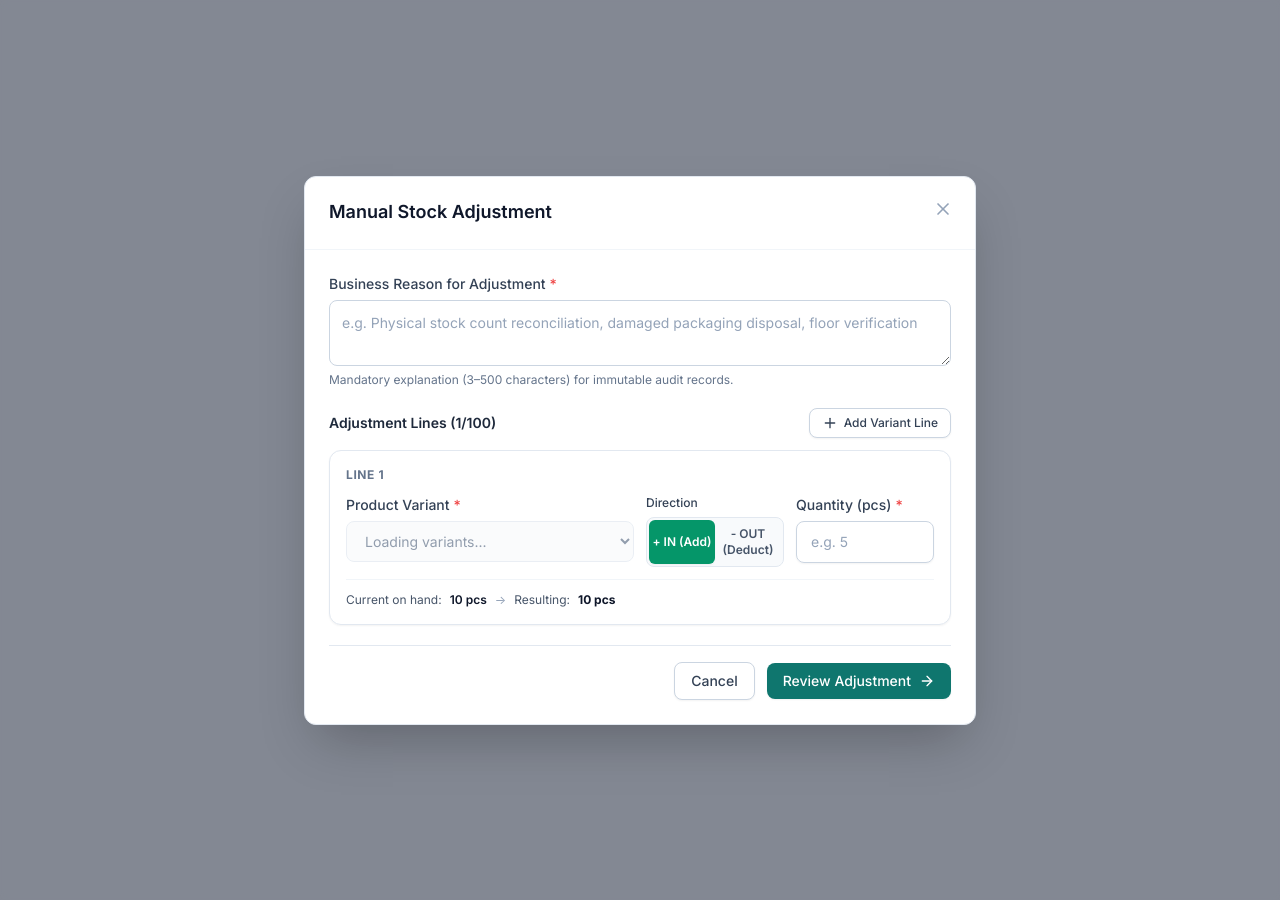
StockAdjustmentModal Component Tests › blocks review if reason is empty or shorter than 3 characters
Type "3" into the number field with placeholder "e.g. 5".
click(865, 542); type("3")  # box [796, 520, 934, 562]
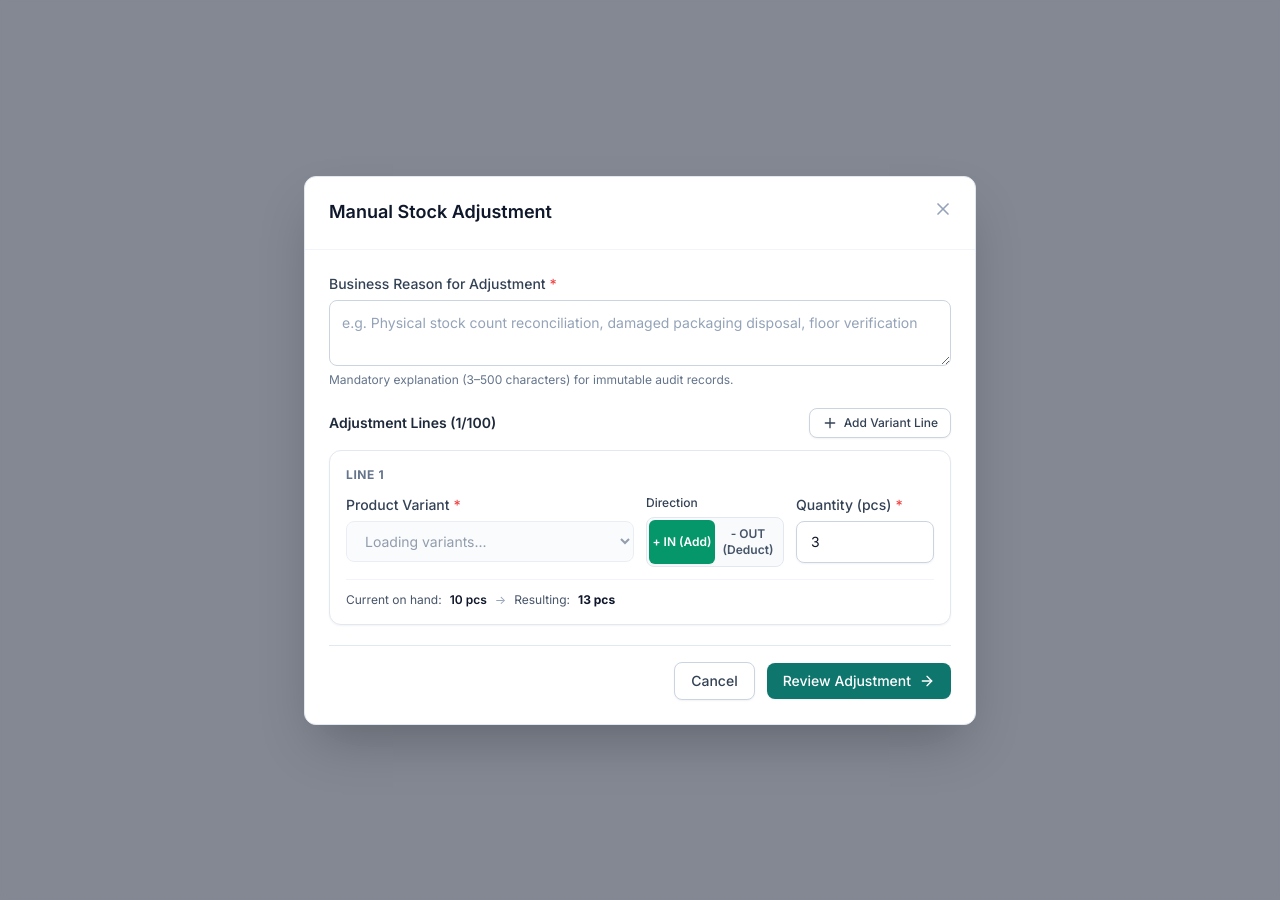
Click the button "Review Adjustment".
click(859, 680)  # box [767, 662, 951, 698]
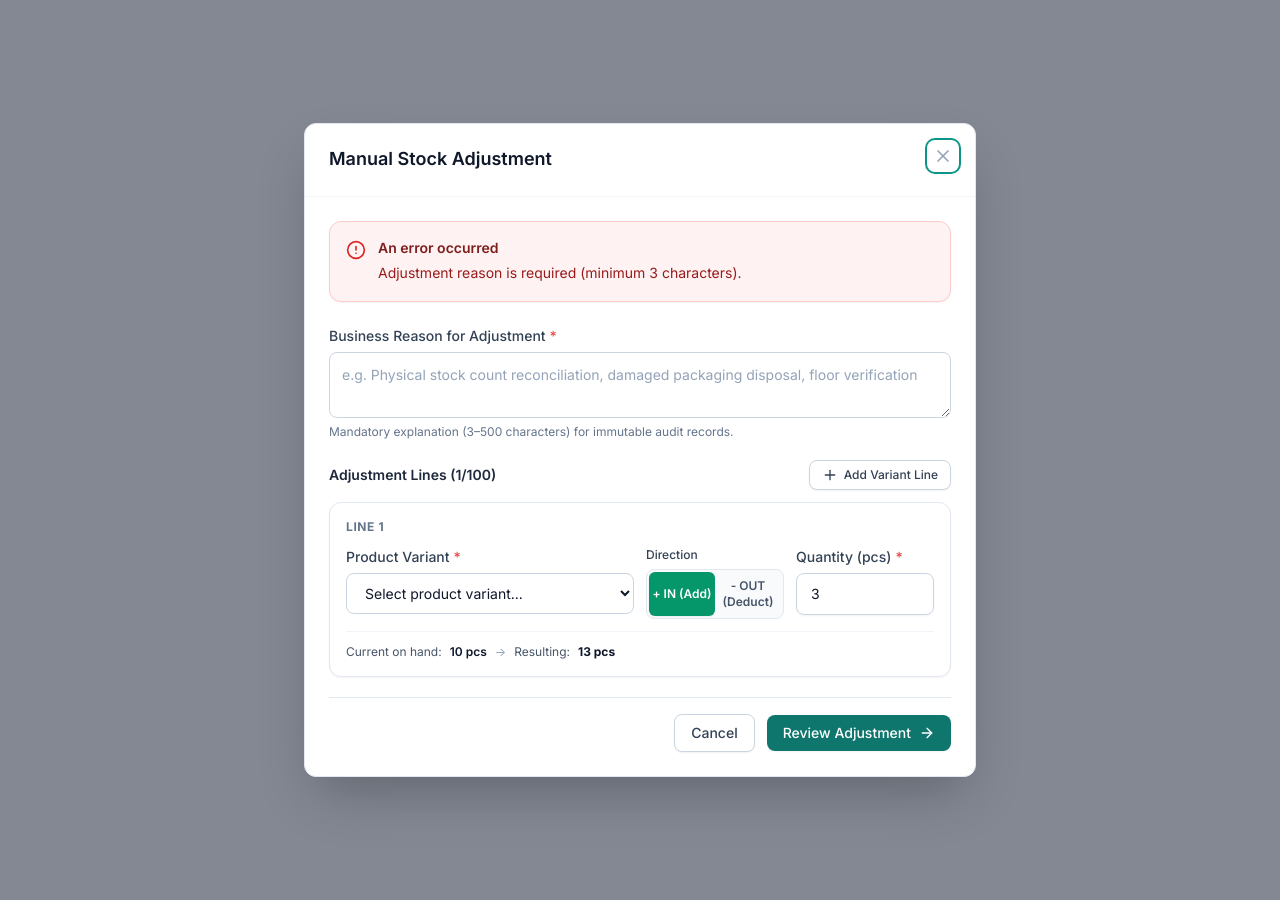
Result: the text "Adjustment reason is required (minimum 3 characters)." is shown at [378, 264, 742, 281]
